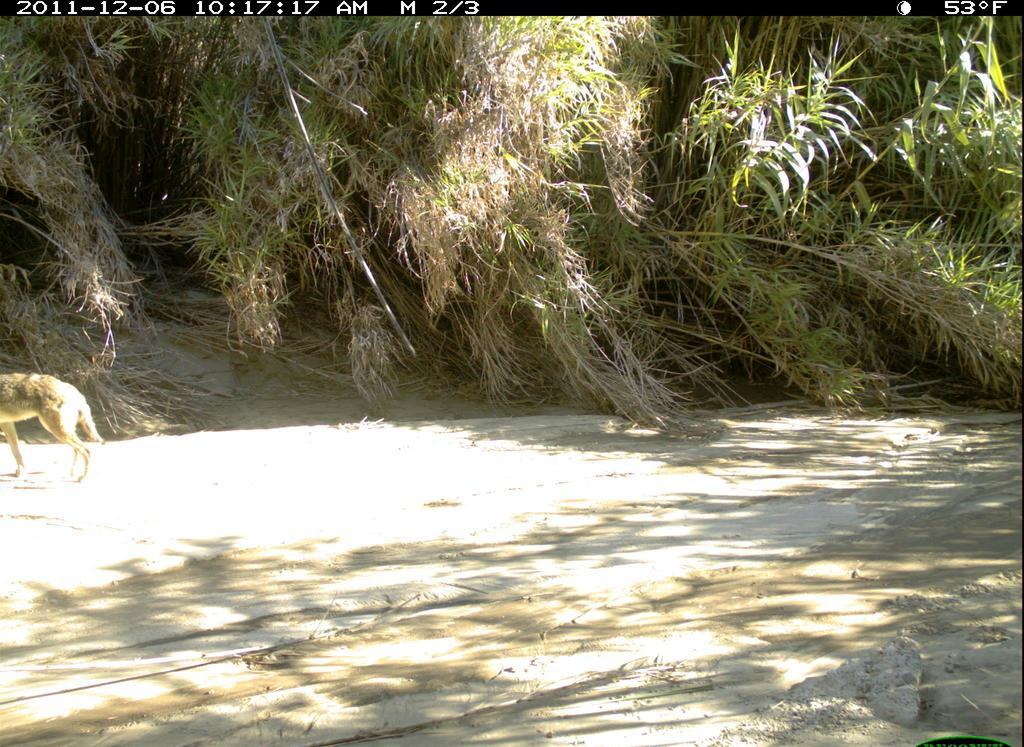coyote: (2, 374, 126, 486)
